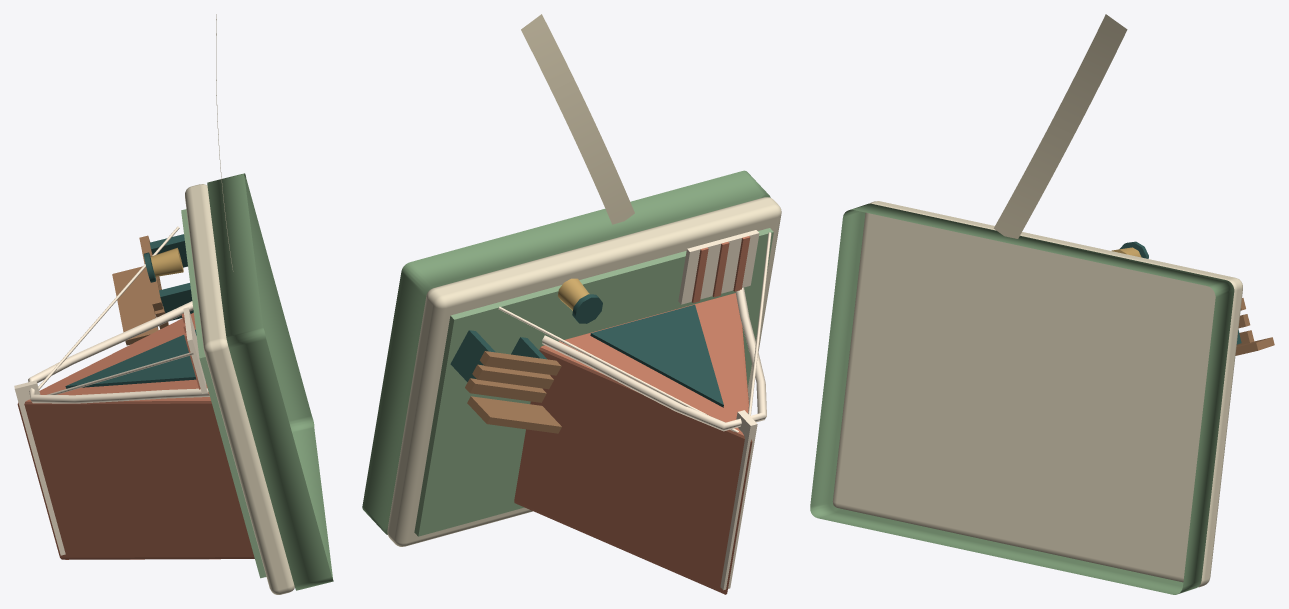
The model's file is camping.glb.
3 renders of one model, left to right at view 1: azimuth 30°, elevation 25°; view 2: azimuth 150°, elevation 25°; view 3: azimuth 270°, elevation 25°, orthographic. The views are drawn at different scales.
Parts seen in each view (by area): view 1: camping (×8); view 2: camping (×9); view 3: camping (×4).
Boxes of the visible parts, <box> form: camping (×8): <box>14,173,333,594</box>; camping (×9): <box>362,14,781,594</box>; camping (×4): <box>810,14,1274,594</box>.
Size of the model in its own units: 0.401 by 0.5797 by 0.4443.
